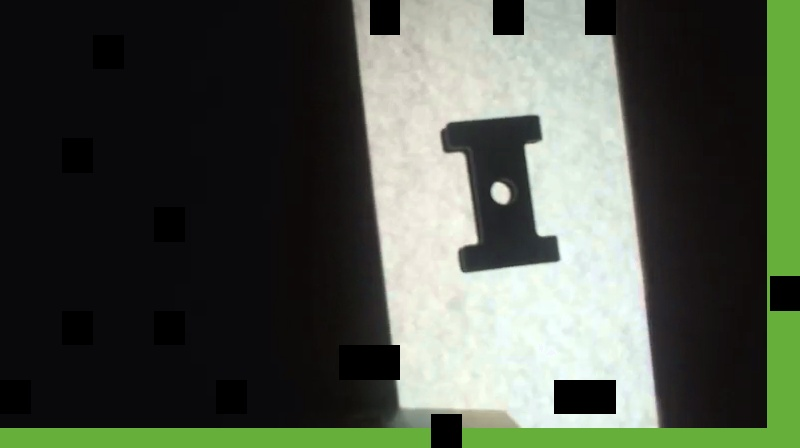O002: (439, 109, 564, 274)
